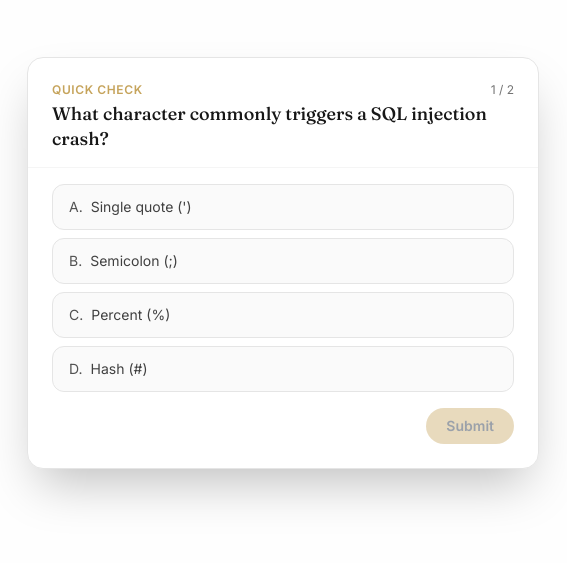
it: QuizOverlay › advances to the next question and resets selection state
The image size is (567, 563).
Click the radio button "Single quote (')". click: x=141, y=207
box: 52,184 -> 514,230
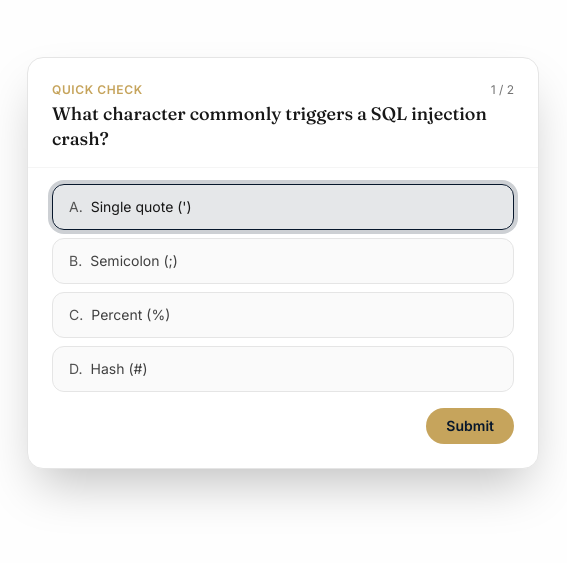
Click the button "Submit". click: x=470, y=426
box: 426,408 -> 514,444
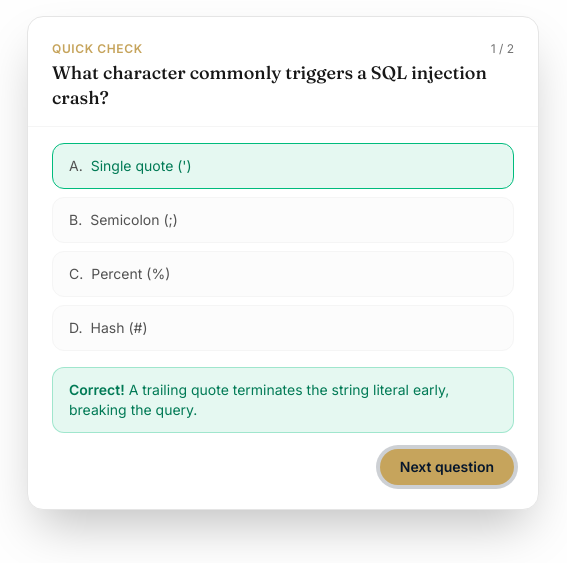
Click the button "Next question". click: x=447, y=467
box: 380,449 -> 514,485
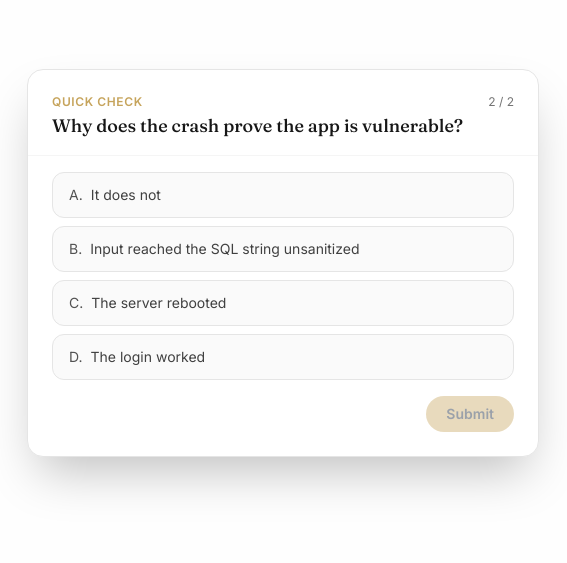
Result: the text "Why does the crash prove the app is vulnerable?" is shown at 52,114 -> 514,139
Result: the button "Submit" is disabled at 426,396 -> 514,432
